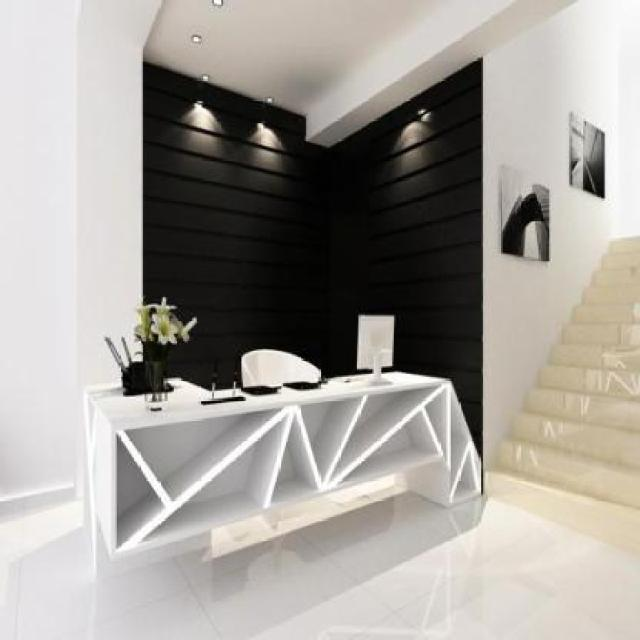frontdesk: (65, 343, 490, 569)
